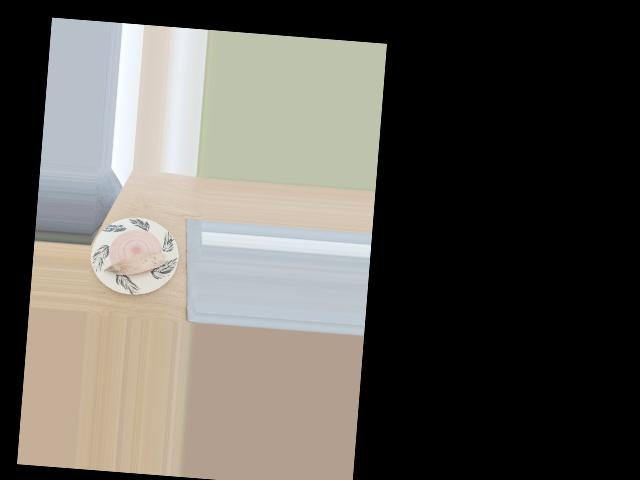sweet_potato: (108, 245, 164, 283)
